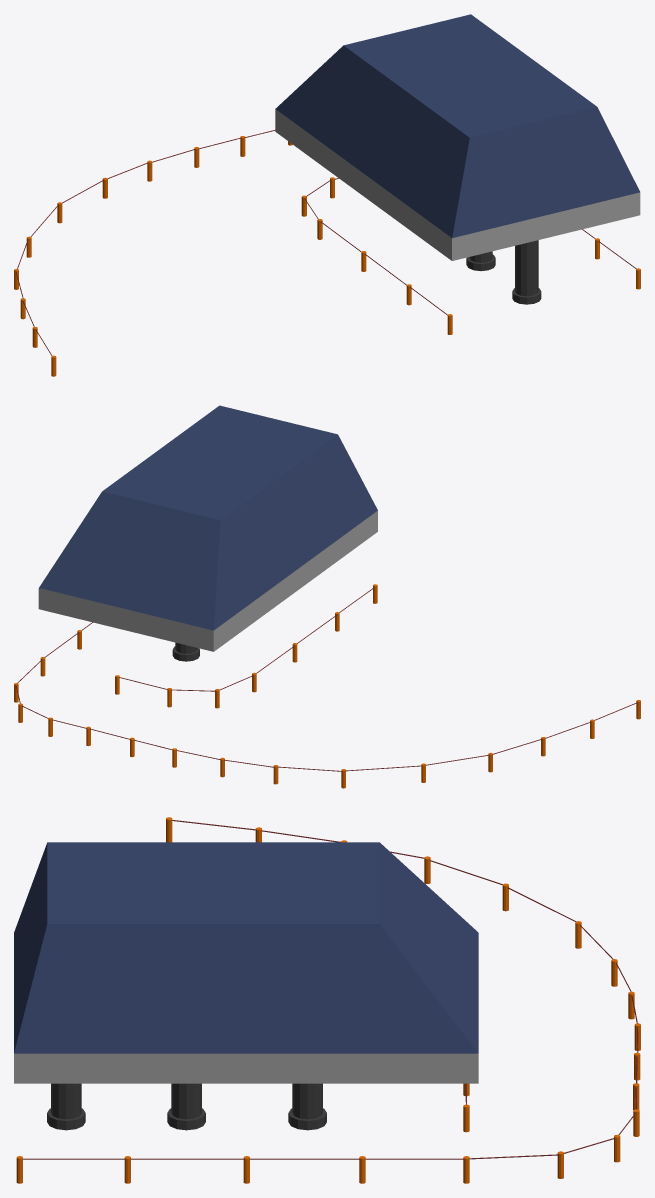
File: chairbase.fbx
3 renders of one model, top to bottom at view 1: azimuth 30°, elevation 25°; view 2: azimuth 150°, elevation 25°; view 3: azimuth 270°, elevation 25°, orthographic. The views are drawn at different scales.
Parts seen in each view (by area): view 1: ChairBase; view 2: ChairBase; view 3: ChairBase.
Boxes of the visible parts, box(x1,y1,x2,y2) form: ChairBase: box(14, 14, 640, 376); ChairBase: box(14, 405, 640, 788); ChairBase: box(14, 817, 640, 1183).
Size of the model in its own units: 125 by 40.69 by 96.87.
